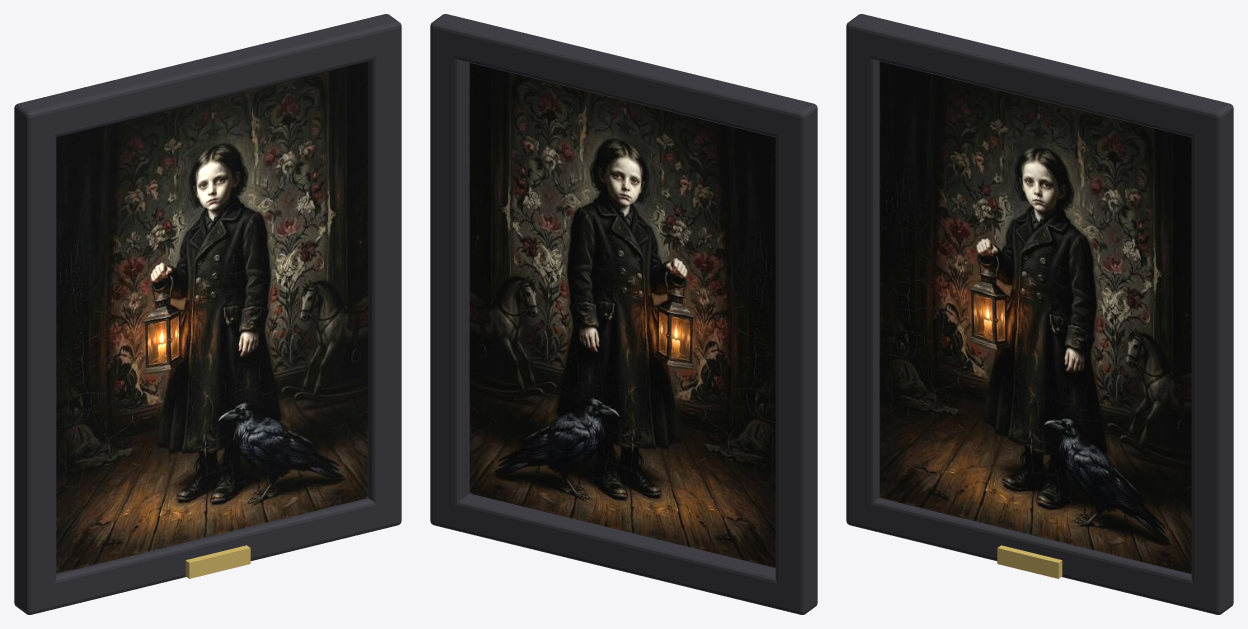
Rendered from art_child_lantern.glb.
3 renders of one model, left to right at view 1: azimuth 30°, elevation 25°; view 2: azimuth 150°, elevation 25°; view 3: azimuth 330°, elevation 25°, orthographic.
Parts seen in each view (by area): view 1: GD_art_child_lantern__m0, GD_art_child_lantern__m1, GD_art_child_lantern__m2; view 2: GD_art_child_lantern__m0, GD_art_child_lantern__m1; view 3: GD_art_child_lantern__m0, GD_art_child_lantern__m1, GD_art_child_lantern__m2.
Part boxes in pixels (x1,y1,x2,y2): GD_art_child_lantern__m0: (56,61,368,573); GD_art_child_lantern__m1: (14,14,401,614); GD_art_child_lantern__m2: (185,545,250,578); GD_art_child_lantern__m0: (469,63,775,567); GD_art_child_lantern__m1: (430,14,817,614); GD_art_child_lantern__m0: (879,61,1191,573); GD_art_child_lantern__m1: (846,14,1233,614); GD_art_child_lantern__m2: (997,545,1062,578).
Size of the model in its own units: 0.86 by 1.1 by 0.0775.
Materials: 3 (1 with a texture image).
